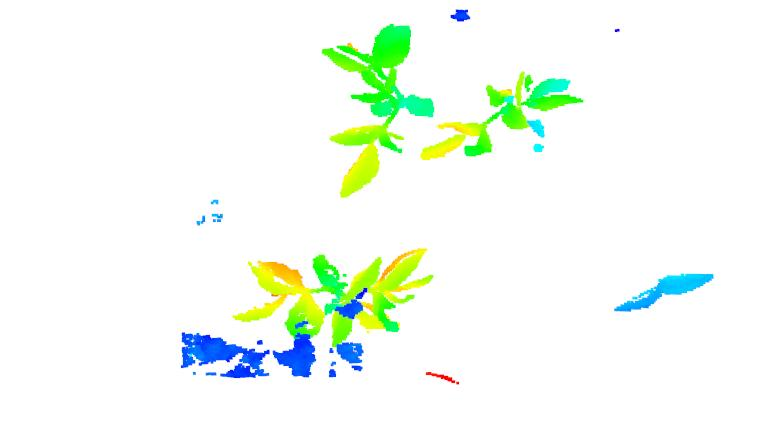mungbean: (325, 21, 434, 200), (241, 249, 430, 344), (422, 62, 585, 166)
